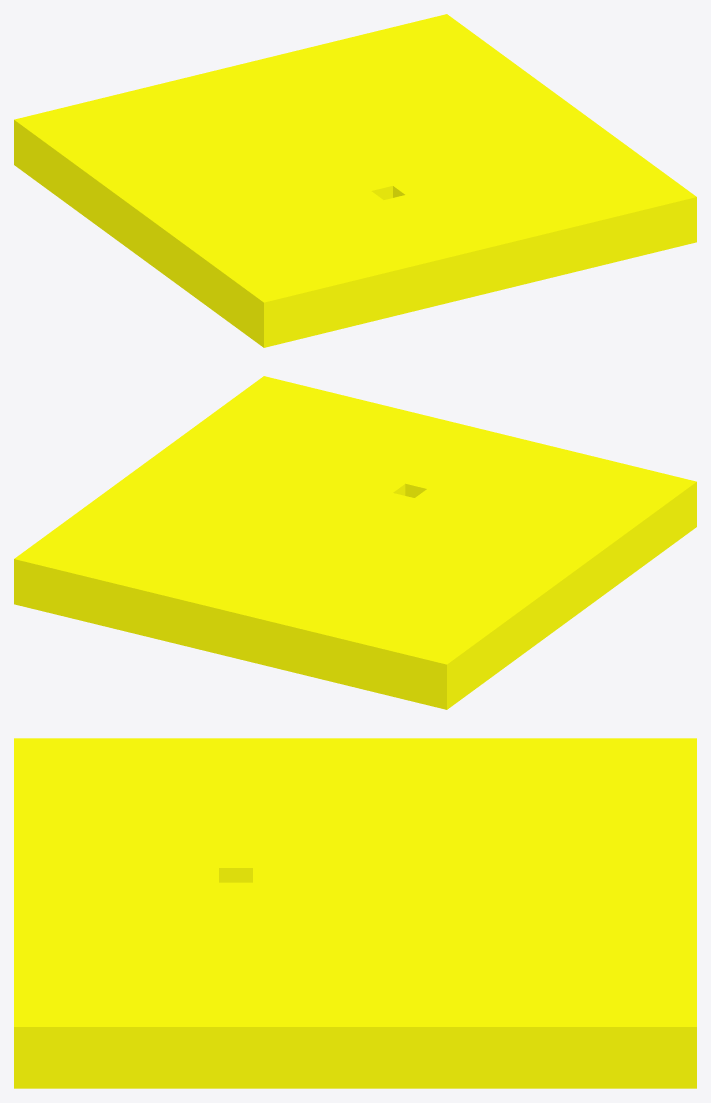
File: Sidewalk_Chunk_2.glb
3 renders of one model, top to bottom at view 1: azimuth 30°, elevation 25°; view 2: azimuth 150°, elevation 25°; view 3: azimuth 270°, elevation 25°, orthographic. The views are drawn at different scales.
Parts seen in each view (by area): view 1: Sidewalk_Chunk_2; view 2: Sidewalk_Chunk_2; view 3: Sidewalk_Chunk_2.
Part boxes in pixels (x1,y1,x2,y2): Sidewalk_Chunk_2: (14,14,696,347); Sidewalk_Chunk_2: (14,376,696,709); Sidewalk_Chunk_2: (14,738,696,1088).
Bounding box in the file's own units: 2 × 0.2 × 2.
Materials: 1 (1 with a texture image).
